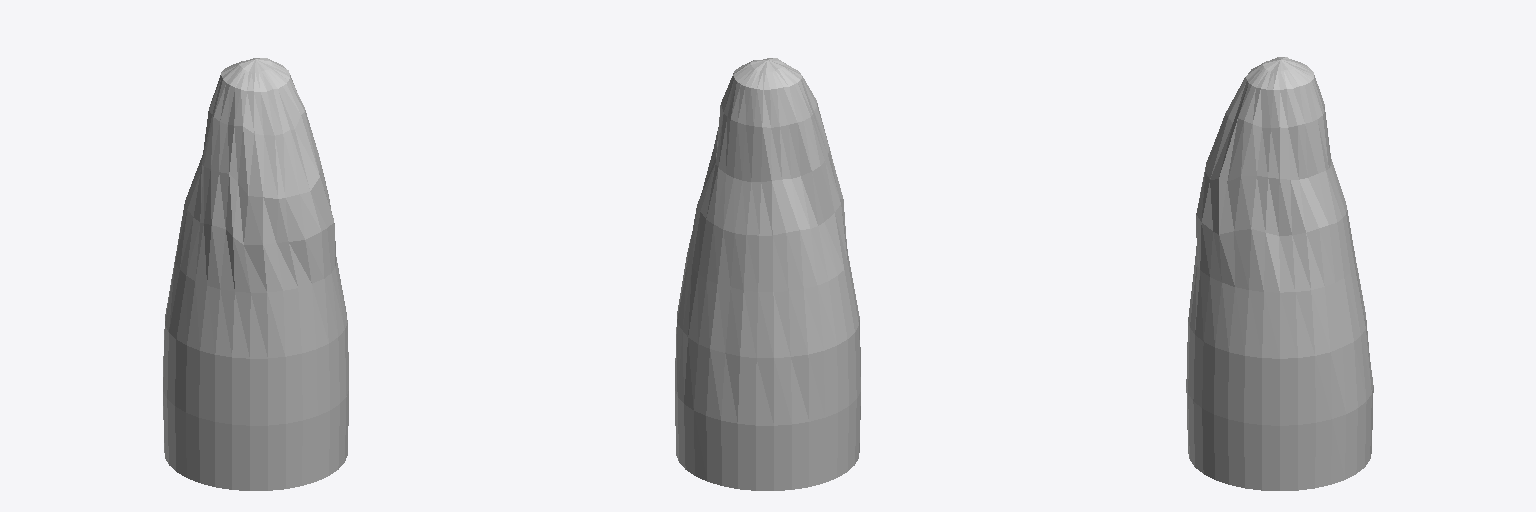
The model's file is noFace.obj.
3 renders of one model, left to right at view 1: azimuth 30°, elevation 25°; view 2: azimuth 150°, elevation 25°; view 3: azimuth 270°, elevation 25°, orthographic.
Parts seen in each view (by area): view 1: Sphere; view 2: Sphere; view 3: Sphere.
Boxes of the visible parts, x1,y1,x2,y2 form: Sphere: [163, 58, 348, 490]; Sphere: [675, 58, 860, 490]; Sphere: [1186, 57, 1373, 490].
Size of the model in its own units: 1 by 2.31 by 1.